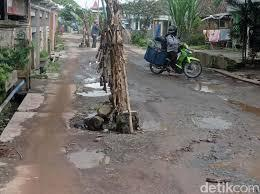Pothole: (159, 138, 260, 194), (188, 70, 257, 110), (175, 105, 230, 138), (65, 144, 116, 176), (77, 71, 122, 101), (72, 46, 107, 84), (219, 93, 260, 122)
